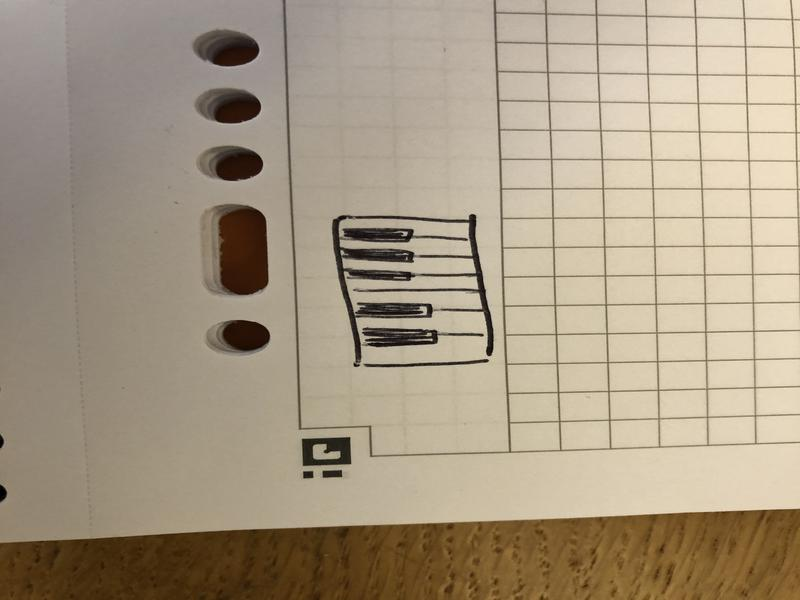piano: (331, 209, 500, 369)
